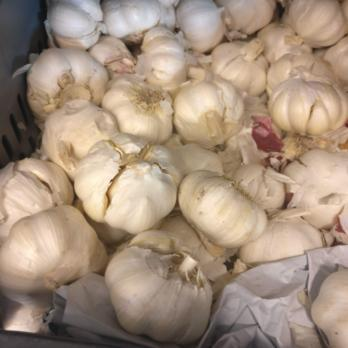Garlic: (26, 0, 348, 348)
